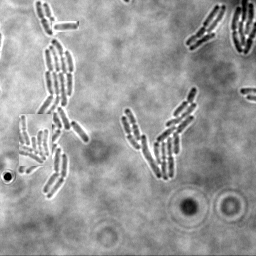Dividing: (34, 1, 52, 37), (41, 3, 57, 33), (52, 21, 79, 32)
Microcolony: (18, 40, 89, 199), (120, 87, 197, 181), (184, 5, 226, 52), (19, 114, 52, 166), (230, 1, 255, 56)
